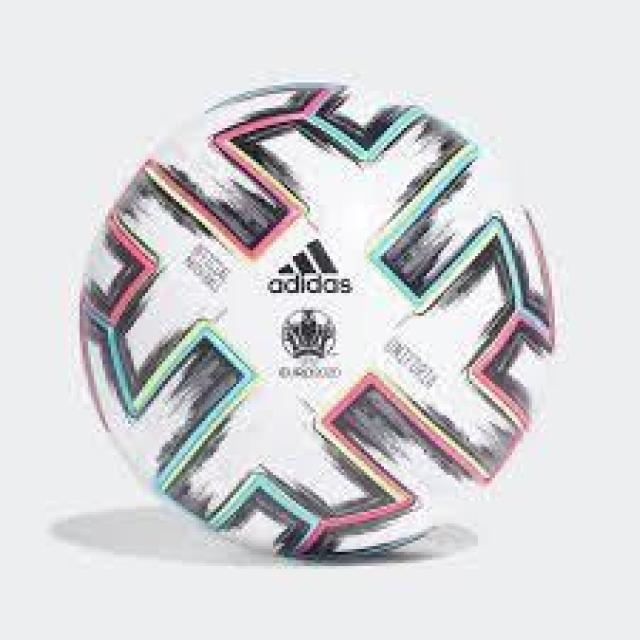ball: (68, 74, 569, 575)
